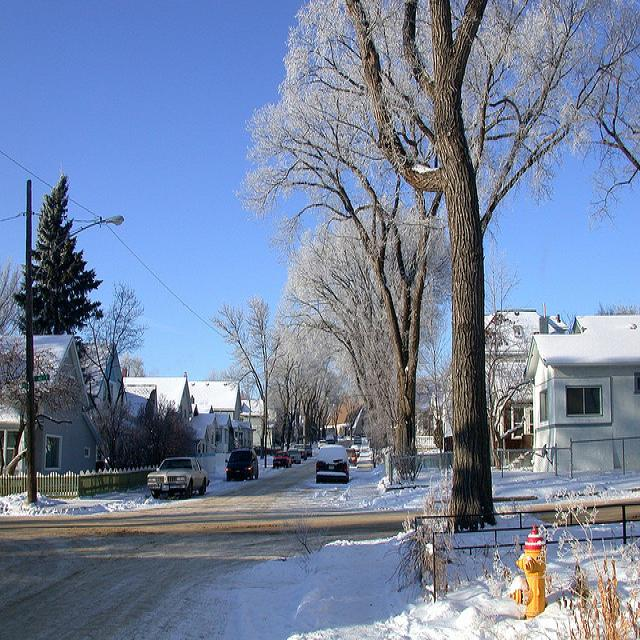Vehicle: (145, 456, 211, 502), (315, 445, 353, 484), (229, 447, 261, 480), (273, 451, 292, 468), (294, 442, 308, 461), (346, 448, 358, 466), (288, 448, 302, 463), (358, 447, 371, 457), (326, 434, 336, 444), (305, 443, 312, 457), (318, 440, 326, 450), (354, 436, 362, 444)
